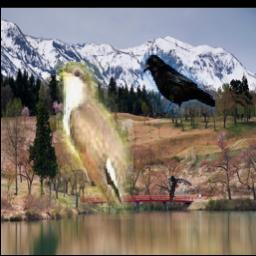Crow: (141, 53, 215, 121)
Cuckoo: (56, 63, 133, 220)
Swallow: (167, 176, 195, 205)
